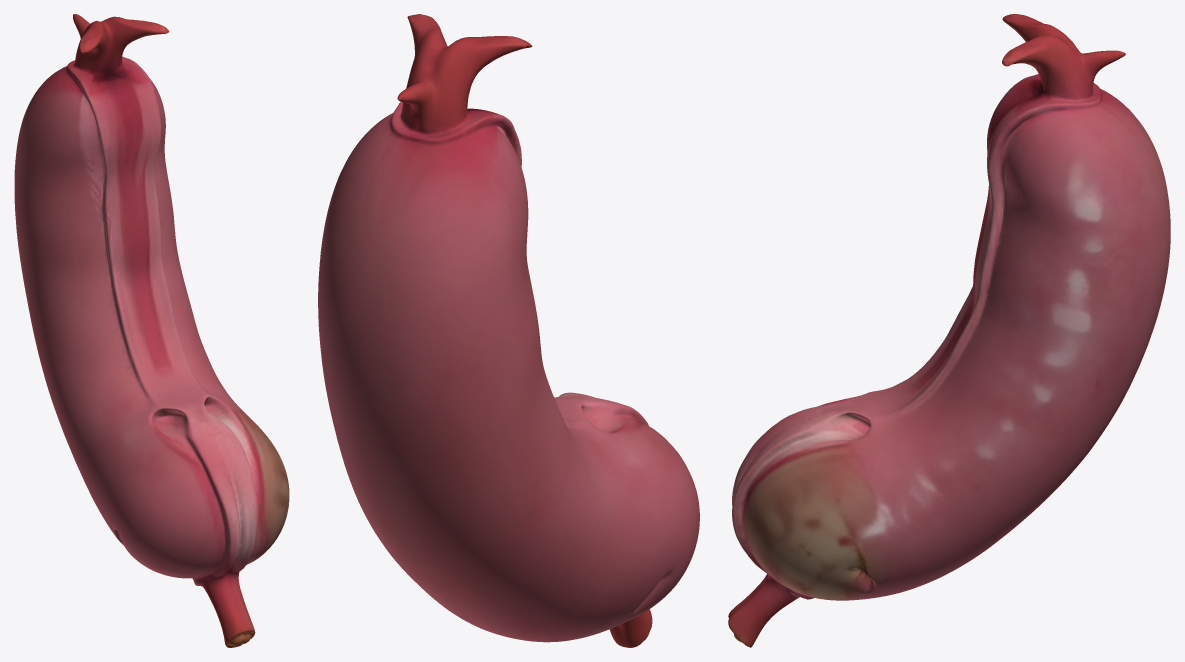
The model's file is megaesophagus.glb.
3 views of the same model, side by side, from view 1: azimuth 30°, elevation 25°; view 2: azimuth 150°, elevation 25°; view 3: azimuth 270°, elevation 25° (orthographic). The views are drawn at different scales.
Visible parts, largest first — view 1: model; view 2: model; view 3: model.
Boxes of the visible parts, x1=… form: model: x1=14, y1=14, x2=289, y2=647; model: x1=318, y1=14, x2=699, y2=647; model: x1=728, y1=14, x2=1170, y2=647.
Bounding box in the file's own units: 0.598 × 1.9 × 1.24.
1 material, 1 textured.
